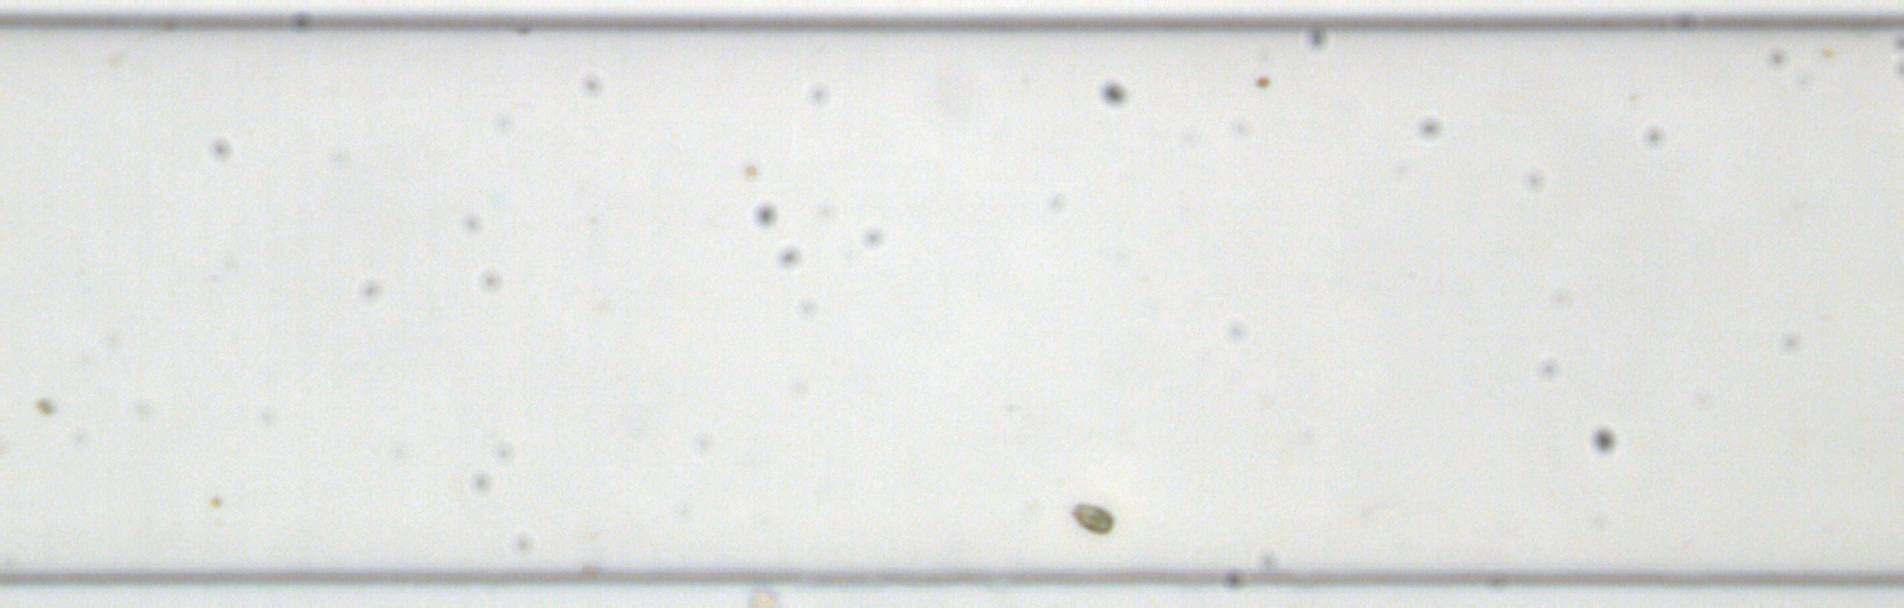Chlorella: (1253, 72, 1270, 89), (209, 491, 225, 507)
Dunaliella salina: (1066, 495, 1115, 536)
